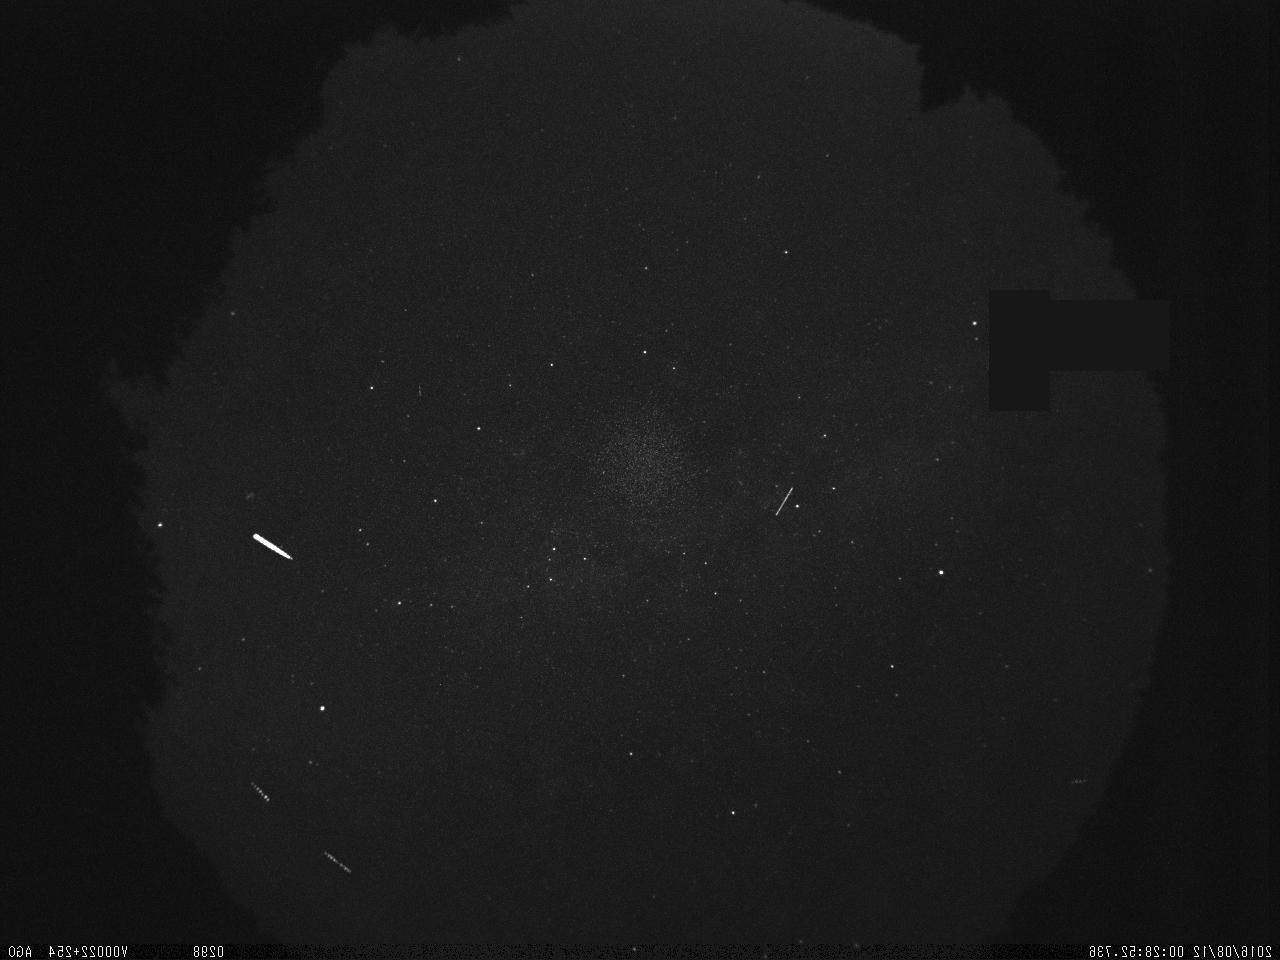meteor: (246, 524, 303, 569)
satelite: (241, 770, 278, 813), (319, 844, 355, 882), (769, 479, 799, 521)
